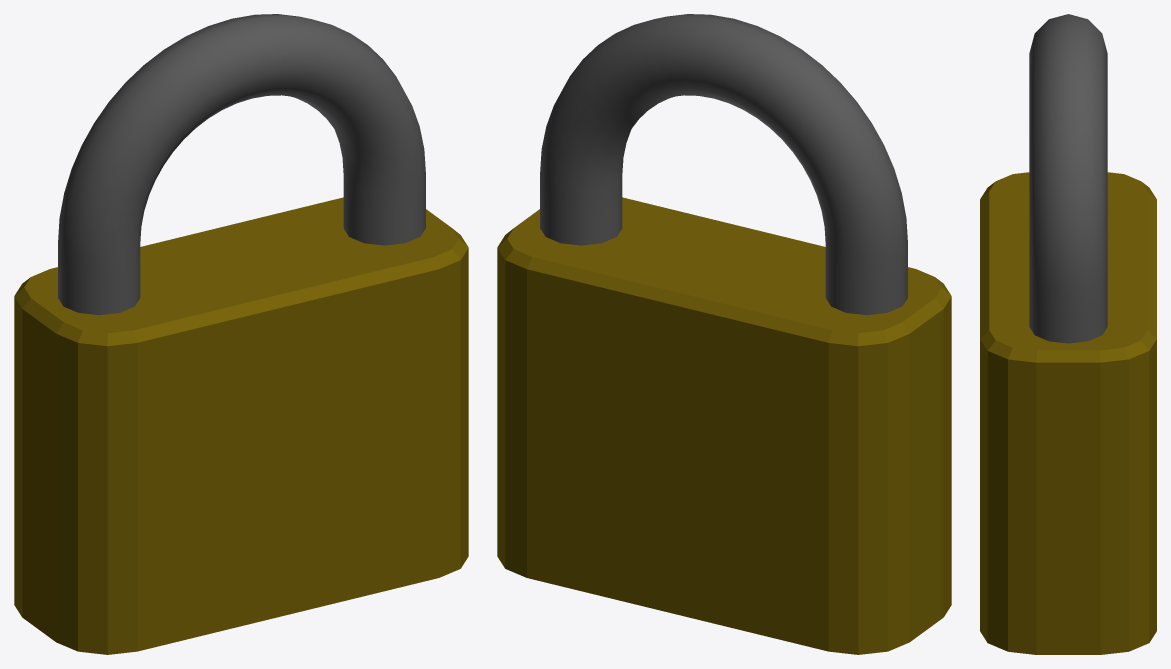
Rendered from Padlock.gltf.
The picture shows the model from 3 angles, left to right: view 1: azimuth 30°, elevation 25°; view 2: azimuth 150°, elevation 25°; view 3: azimuth 270°, elevation 25°; orthographic projection. The views are drawn at different scales.
Parts seen in each view (by area): view 1: Padlock, Shackle; view 2: Padlock, Shackle; view 3: Padlock, Shackle.
Boxes of the visible parts, <box> form: Padlock: <box>14,197,468,654</box>; Shackle: <box>58,14,425,315</box>; Padlock: <box>497,197,951,654</box>; Shackle: <box>540,14,907,315</box>; Padlock: <box>980,172,1156,654</box>; Shackle: <box>1029,14,1107,343</box>.
Bounding box in the file's own units: 0.4 × 0.5284 × 0.16.
